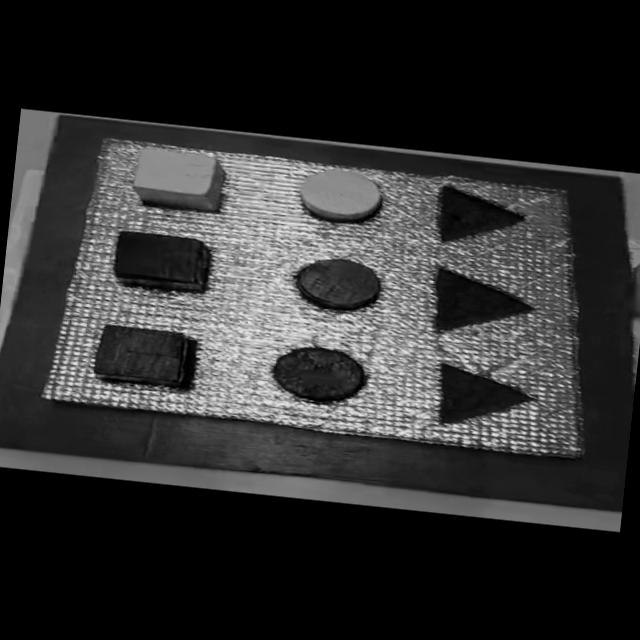bcircle: (270, 344, 369, 406)
bcube: (91, 322, 195, 388)
mttriangle: (428, 266, 538, 342), (432, 362, 540, 433), (432, 183, 529, 250)
rcircle: (289, 253, 387, 316)
rcube: (111, 228, 211, 289)
wb: (39, 132, 612, 460)
ycircle: (293, 164, 391, 228)
ycube: (128, 145, 232, 215)
